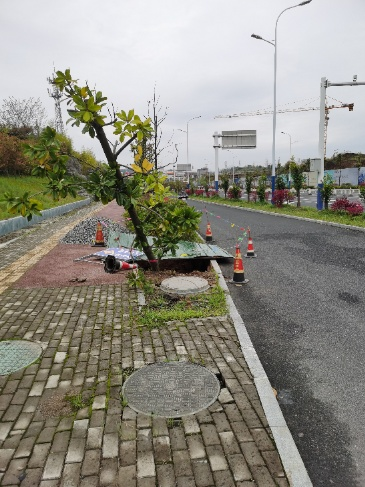good: (122, 361, 221, 417), (1, 338, 42, 377)
